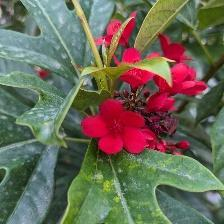jatropha: (83, 98, 152, 157)
